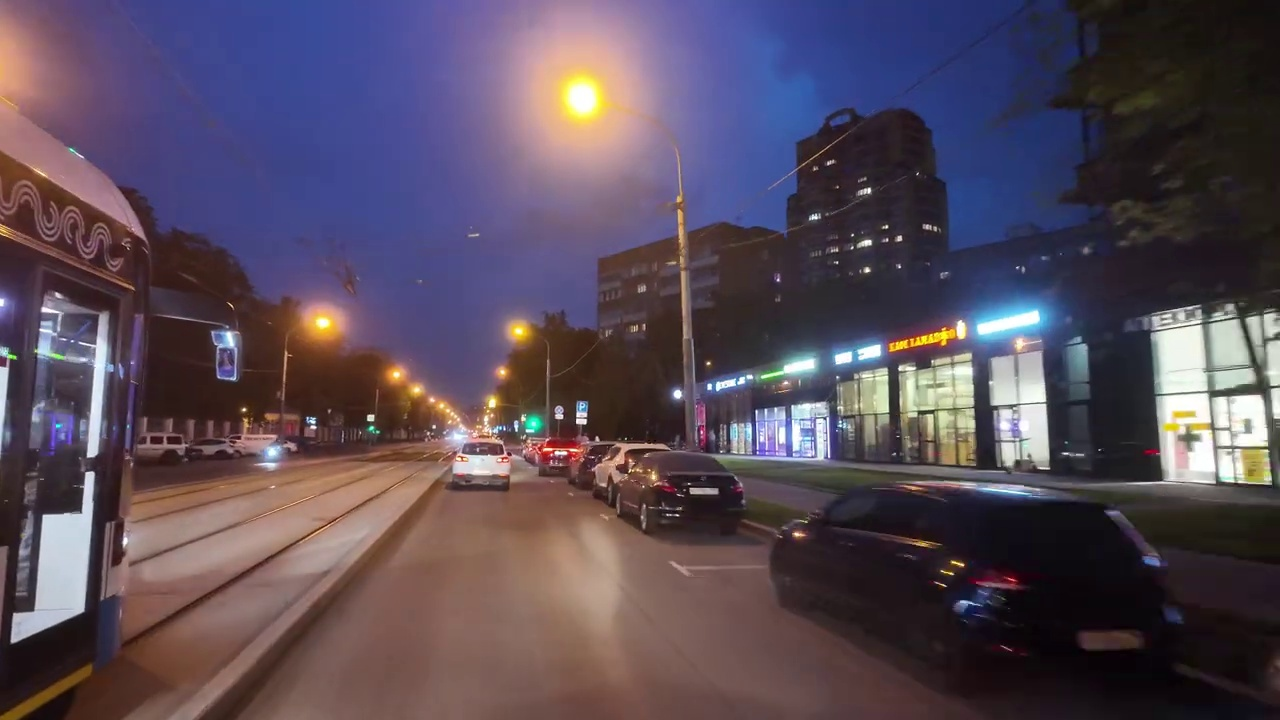acesa: (554, 69, 611, 129), (302, 308, 340, 342), (506, 318, 535, 345), (384, 362, 411, 389)
